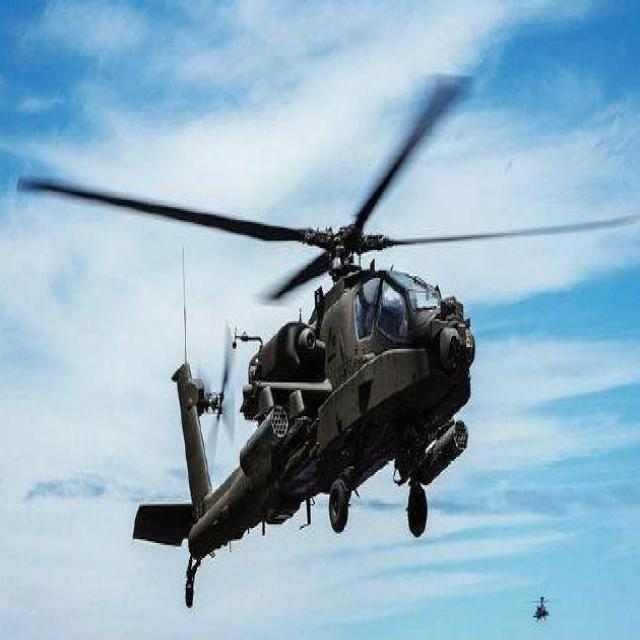MIL_HELO: (15, 59, 640, 602)
